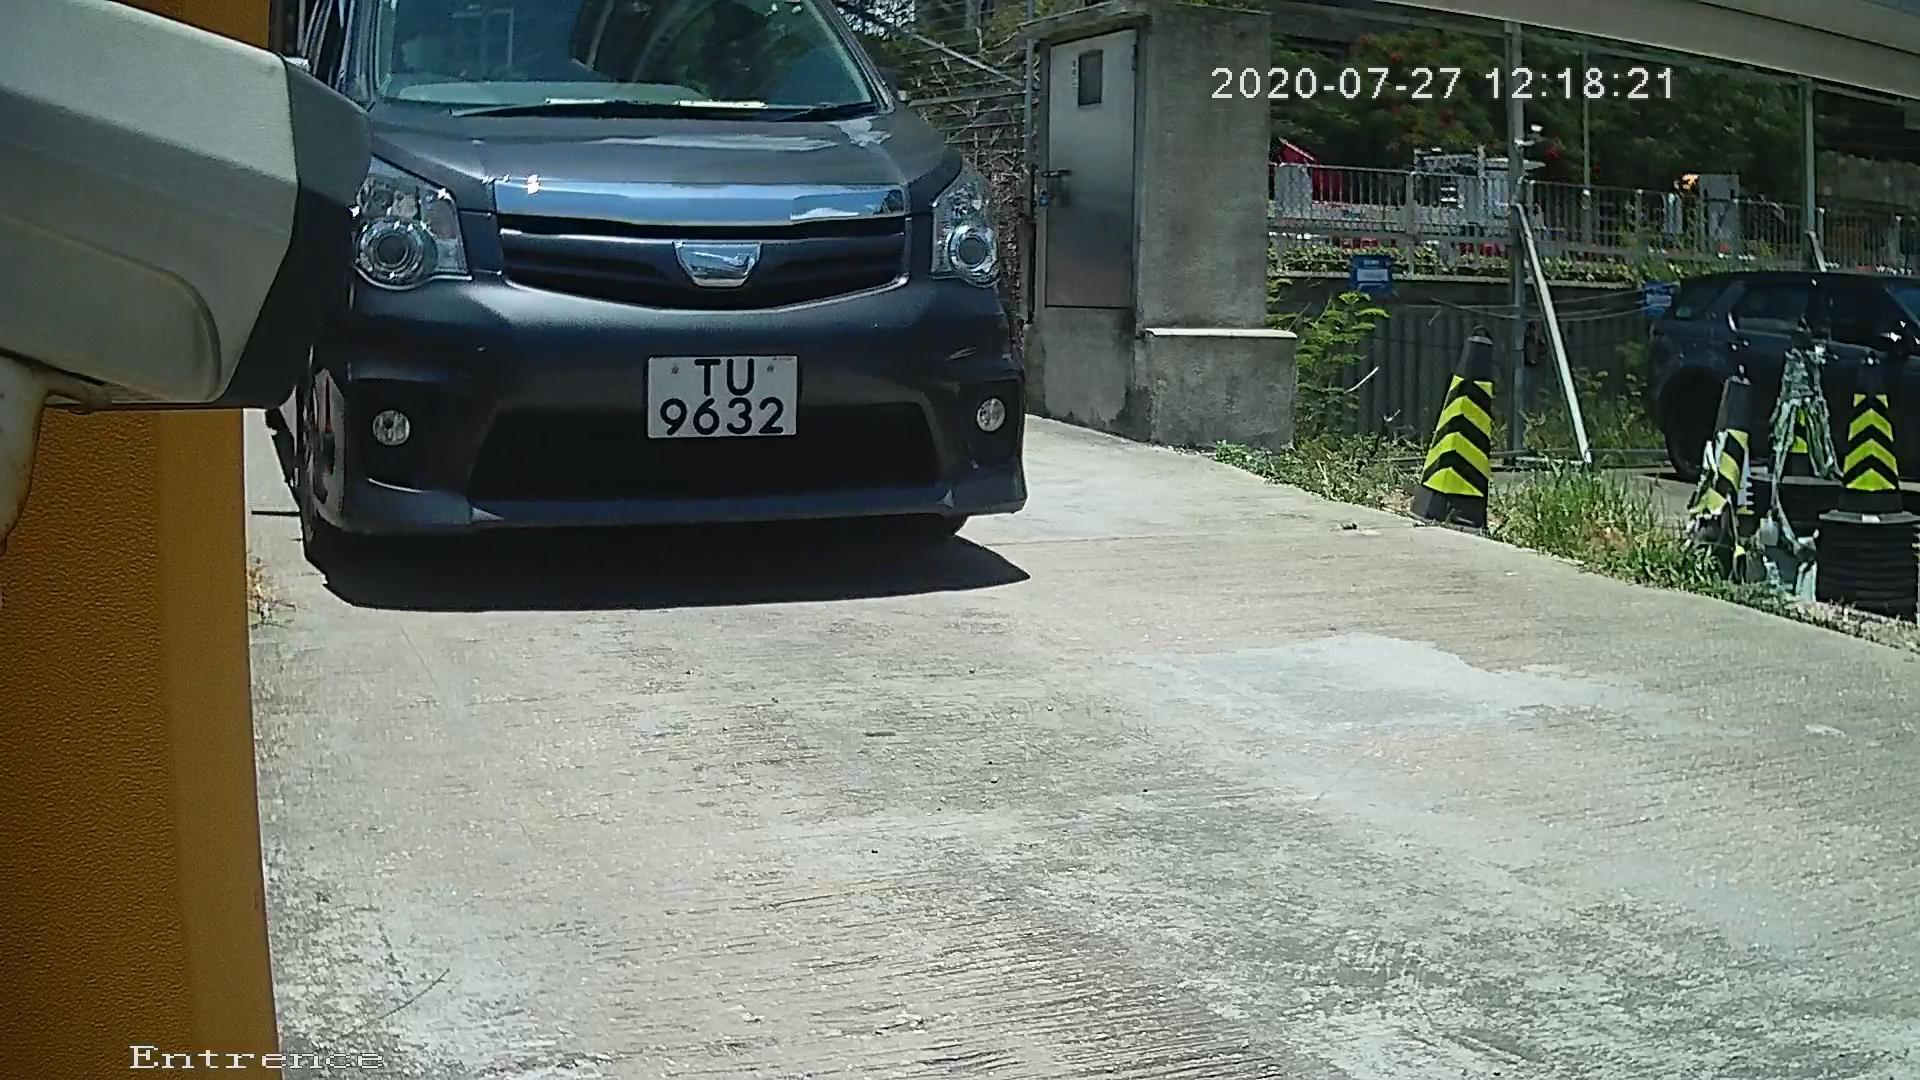Car: (112, 10, 1081, 642)
License Plate: (626, 328, 806, 459)
